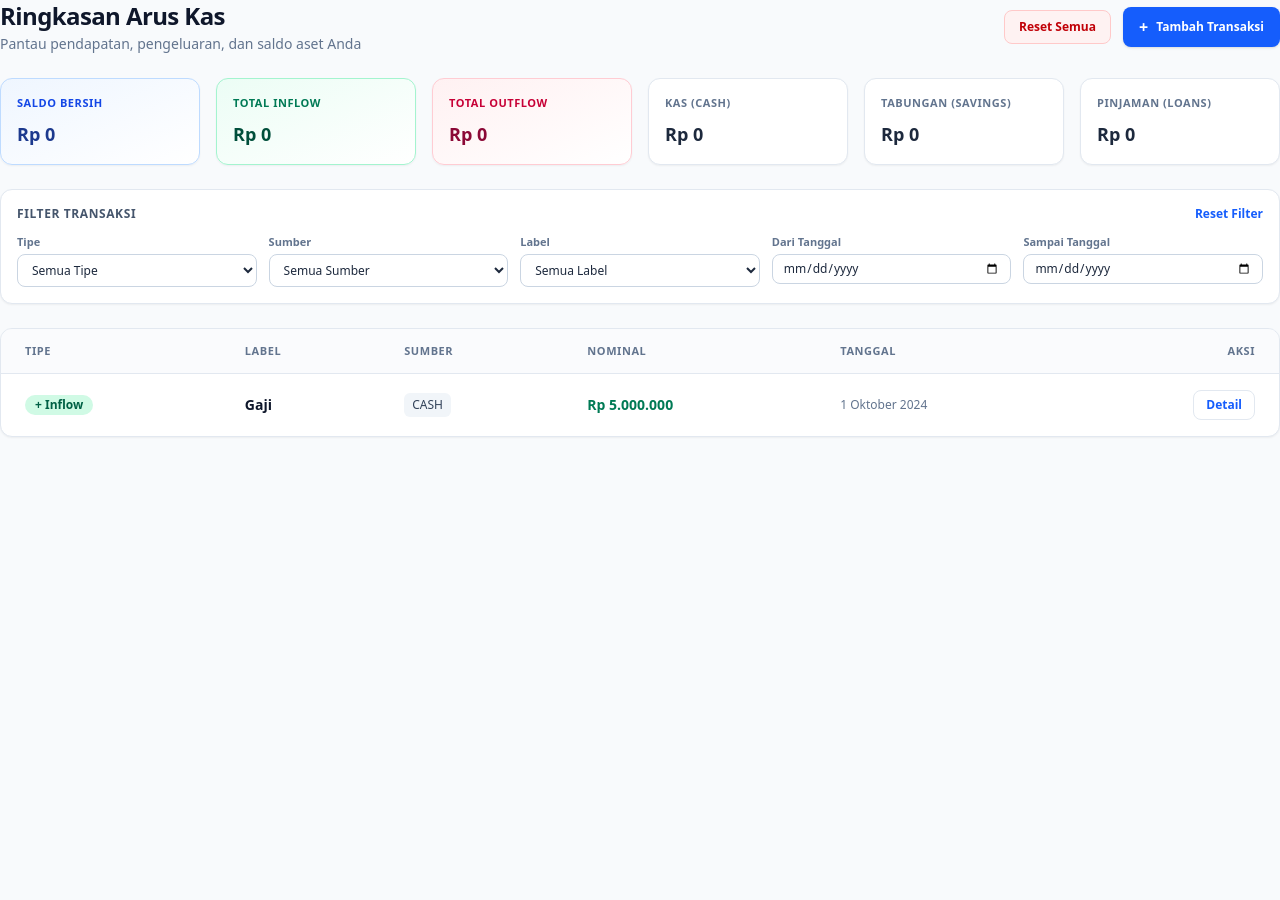
Test: HomePage › closes add modal via close event
What coordinates should you click on to do the following:
click the button "+ Tambah Transaksi"
I would click on:
 (1202, 27)
Its box is [1123,7,1279,47].
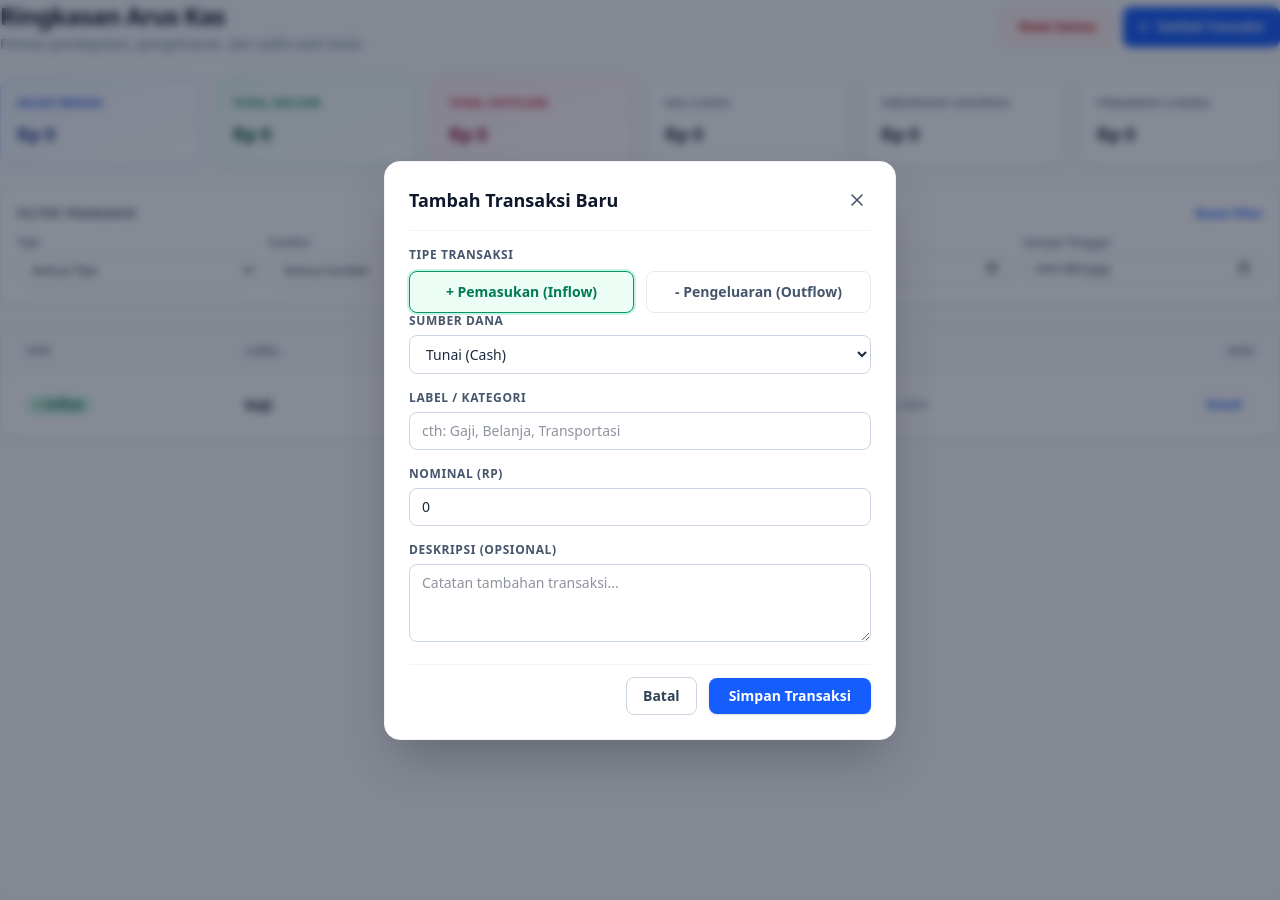
Result: the element with test id "add-modal-backdrop" is shown
What coordinates should you click on to do the following:
click the element with test id "add-modal-backdrop"
I would click on:
 (77, 450)
Its box is [0,0,1279,899].
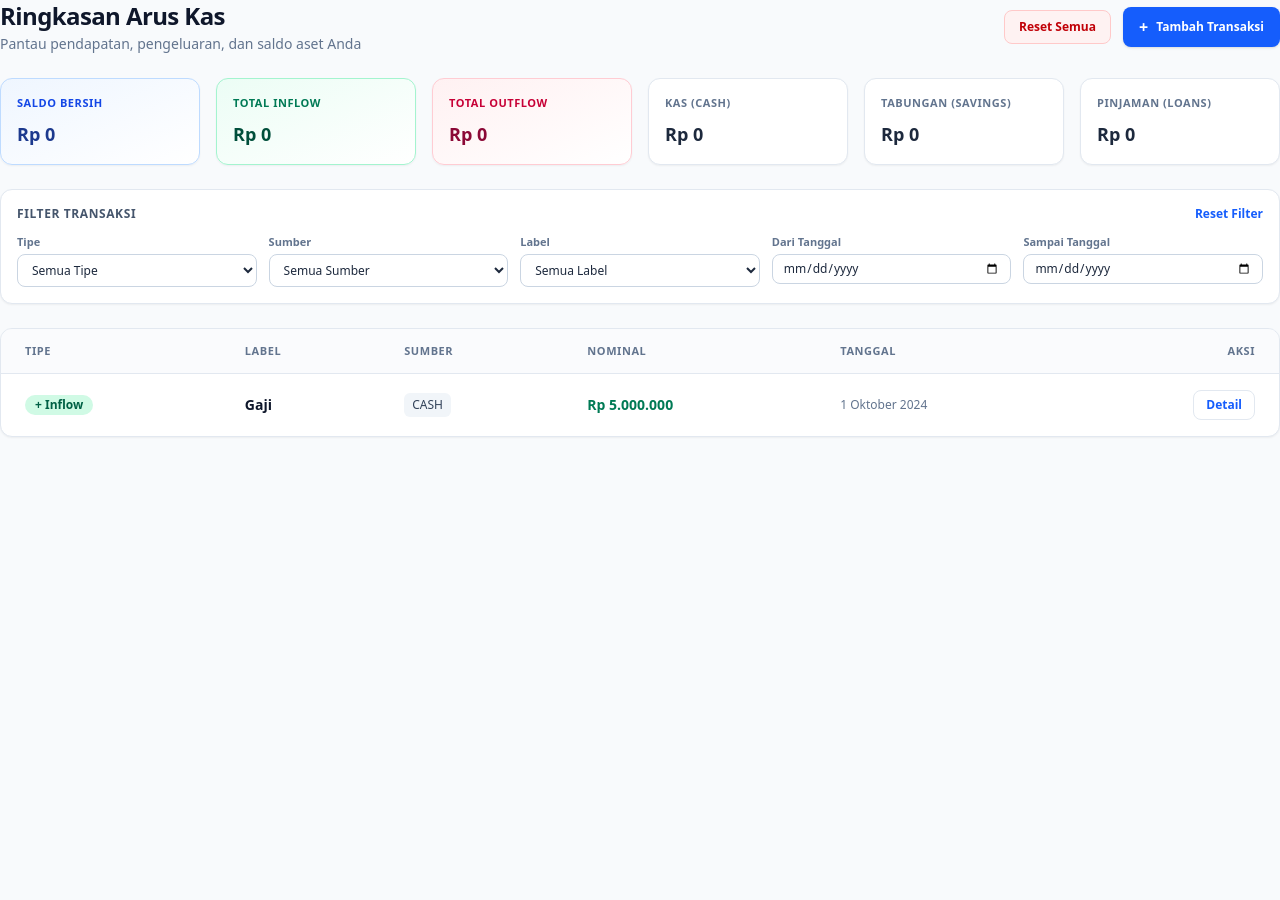
Result: the element with test id "add-modal-backdrop" is gone
